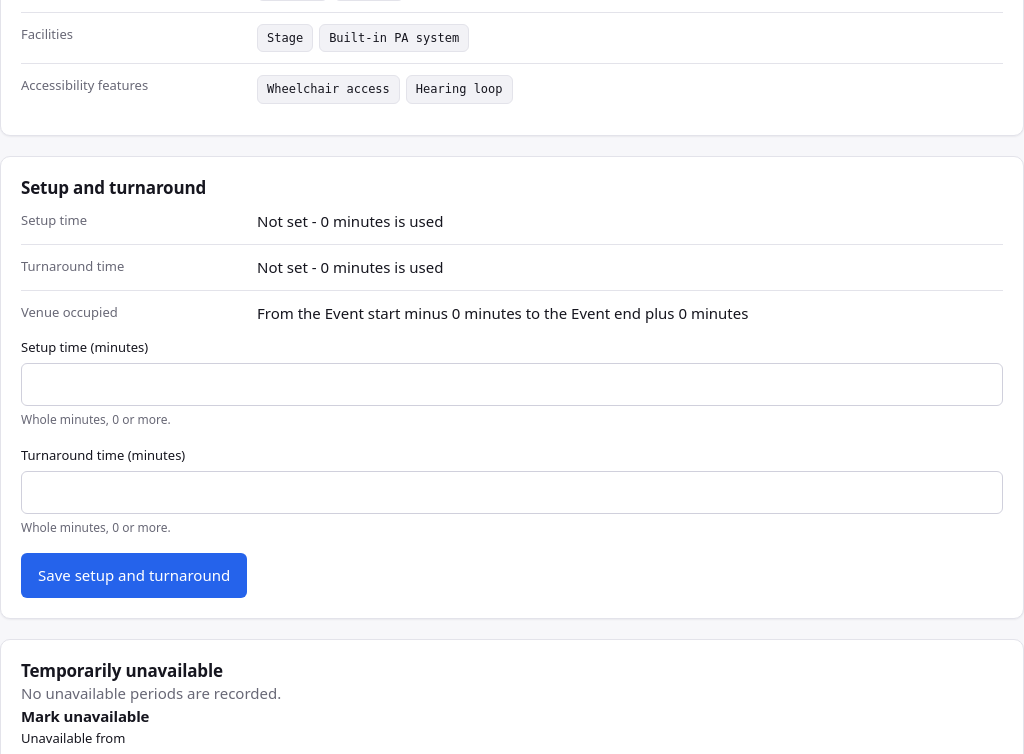
Test: SCRUM-78 setup and turnaround › AC1: Venue Staff save whole minutes and see them on the venue
The image size is (1024, 754).
(page scrolled)
Type "30" into the field labelled "Setup time (minutes)" at (512, 384), box [21,363,1003,406]
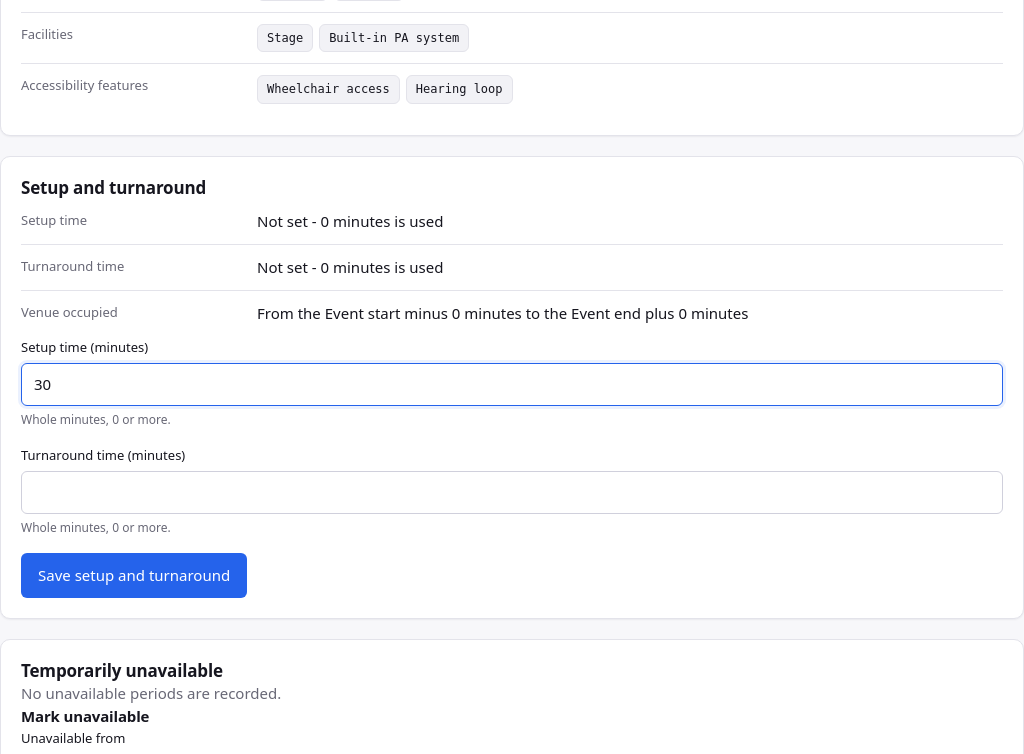
Type "45" into the field labelled "Turnaround time (minutes)" at (512, 492), box [21,471,1003,514]
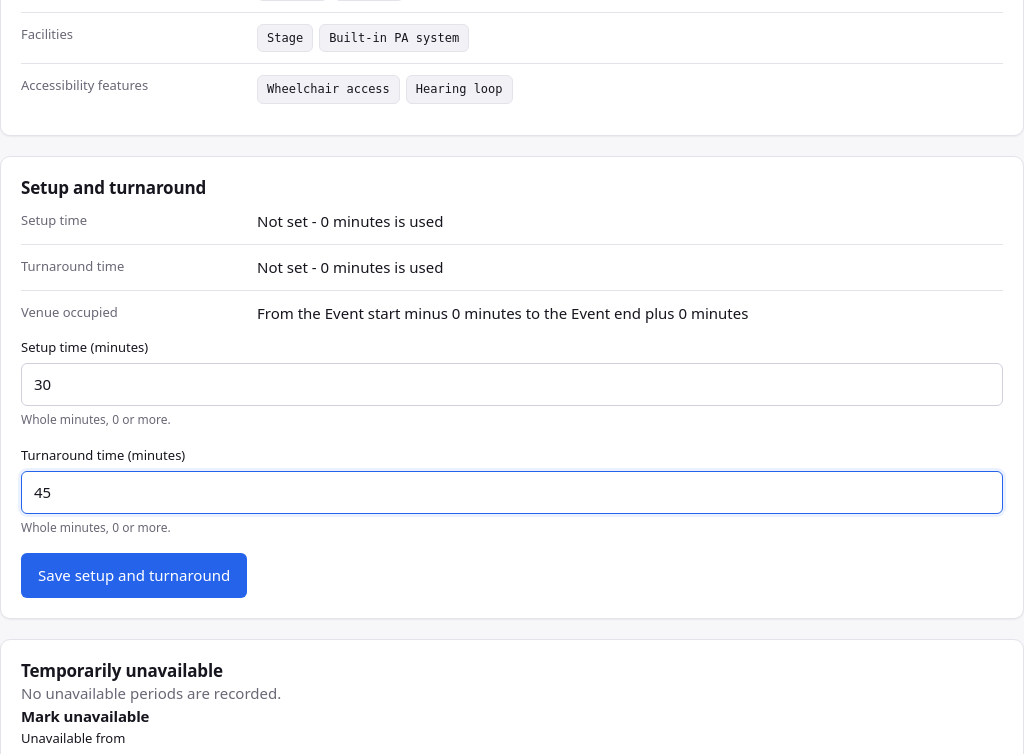
Click the button "Save setup and turnaround" at (134, 575), box [21,552,247,598]
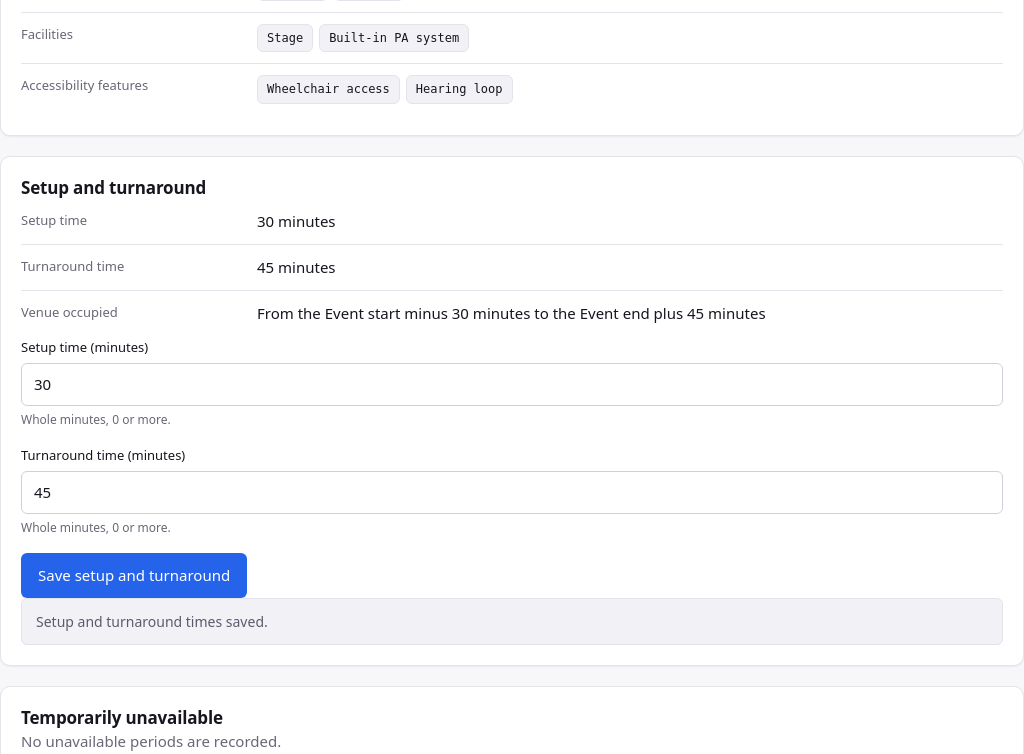
Expected: the message shows "saved", [36,612,268,631]
Expected: the text "30 minutes" is shown, [257,211,336,231]
